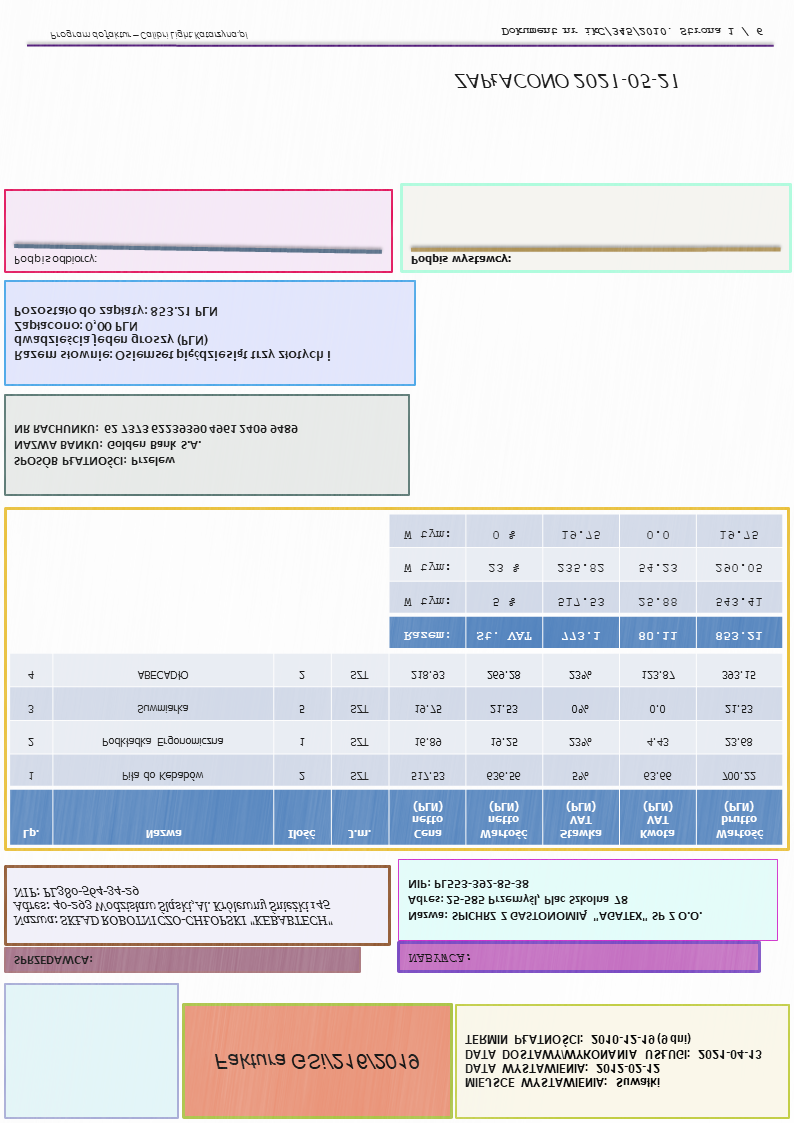Table: (8, 652, 783, 847), (388, 513, 783, 649)
TextBox: (12, 303, 334, 364), (463, 1032, 763, 1092), (11, 883, 337, 928), (12, 422, 299, 470), (406, 878, 705, 923), (451, 68, 680, 93), (211, 1051, 420, 1073), (498, 24, 765, 39), (47, 27, 251, 42), (408, 251, 513, 268), (11, 251, 98, 268), (11, 953, 93, 968), (407, 951, 471, 965)
